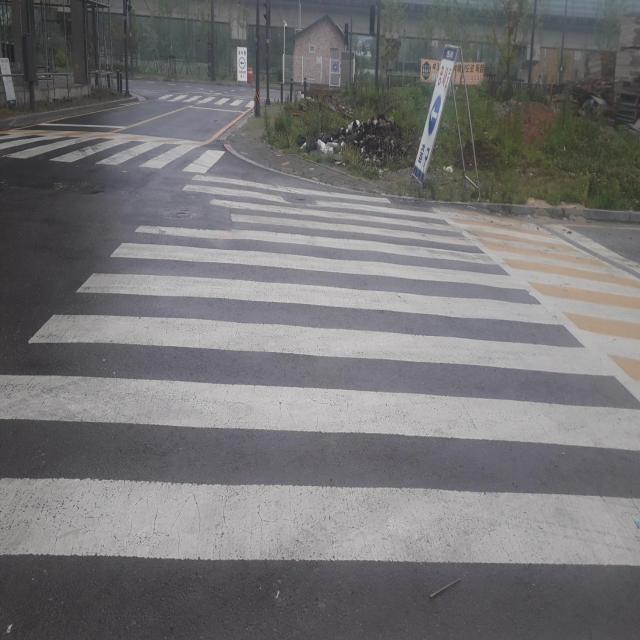횡단보도: (0, 174, 640, 569), (0, 138, 229, 174), (148, 85, 258, 108)
